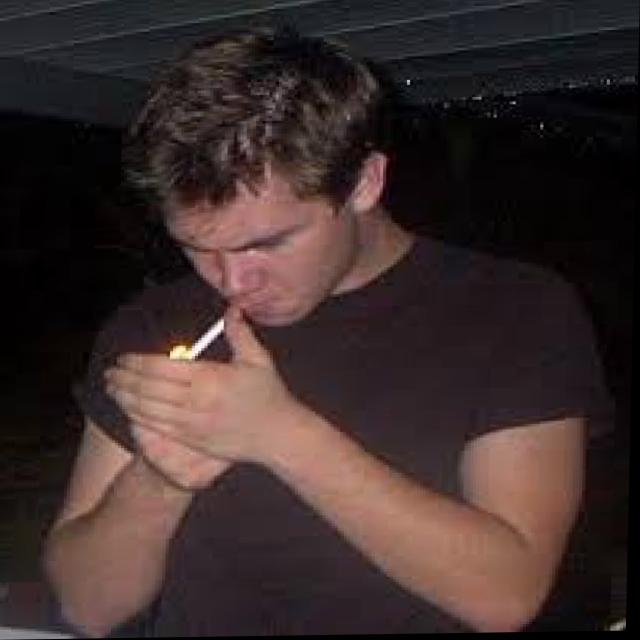fire: (150, 330, 194, 367)
